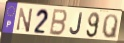2: (31, 8, 51, 37)
9: (85, 11, 101, 40)
B: (48, 8, 69, 37)
J: (69, 12, 84, 36)
N: (16, 7, 34, 34)
Q: (101, 14, 119, 41)
